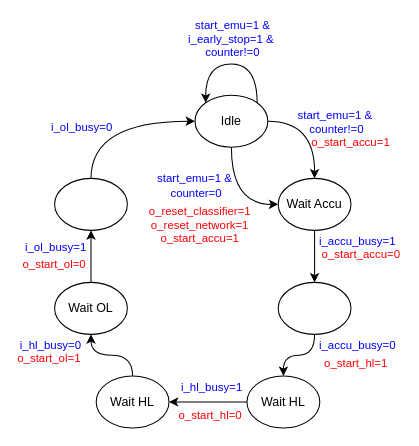
The diagram is 419 pixels wide and 446 high, and some of its shapes have lost their labels. Each missing label, with the box of its shape:
Run Accu: (277, 281, 351, 334)
Run OL: (54, 177, 127, 230)
